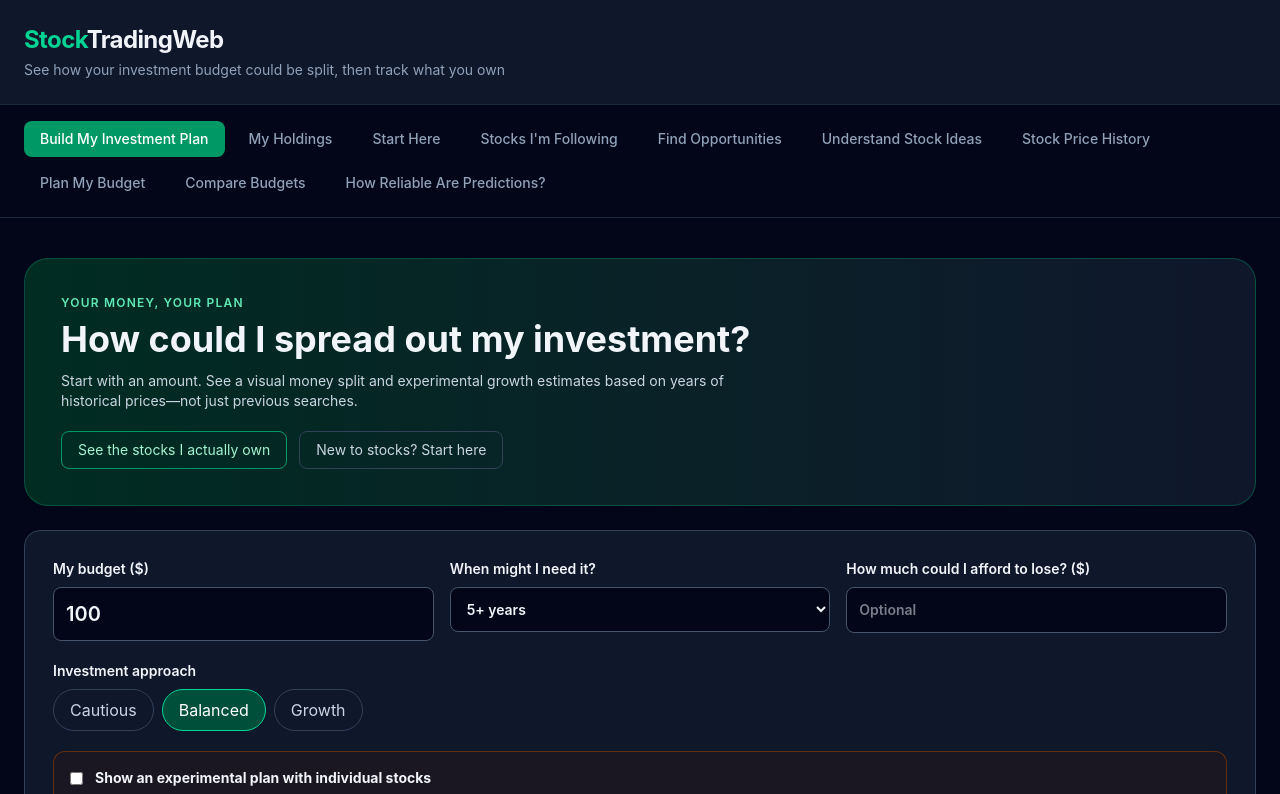
it: Application shell › honestly states the holdings tracker does not place real trades
The width and height of the screenshot is (1280, 794).
Click the link "My Holdings". click: (290, 138)
box: top-left (248, 130), bottom-right (332, 147)
(page scrolled)
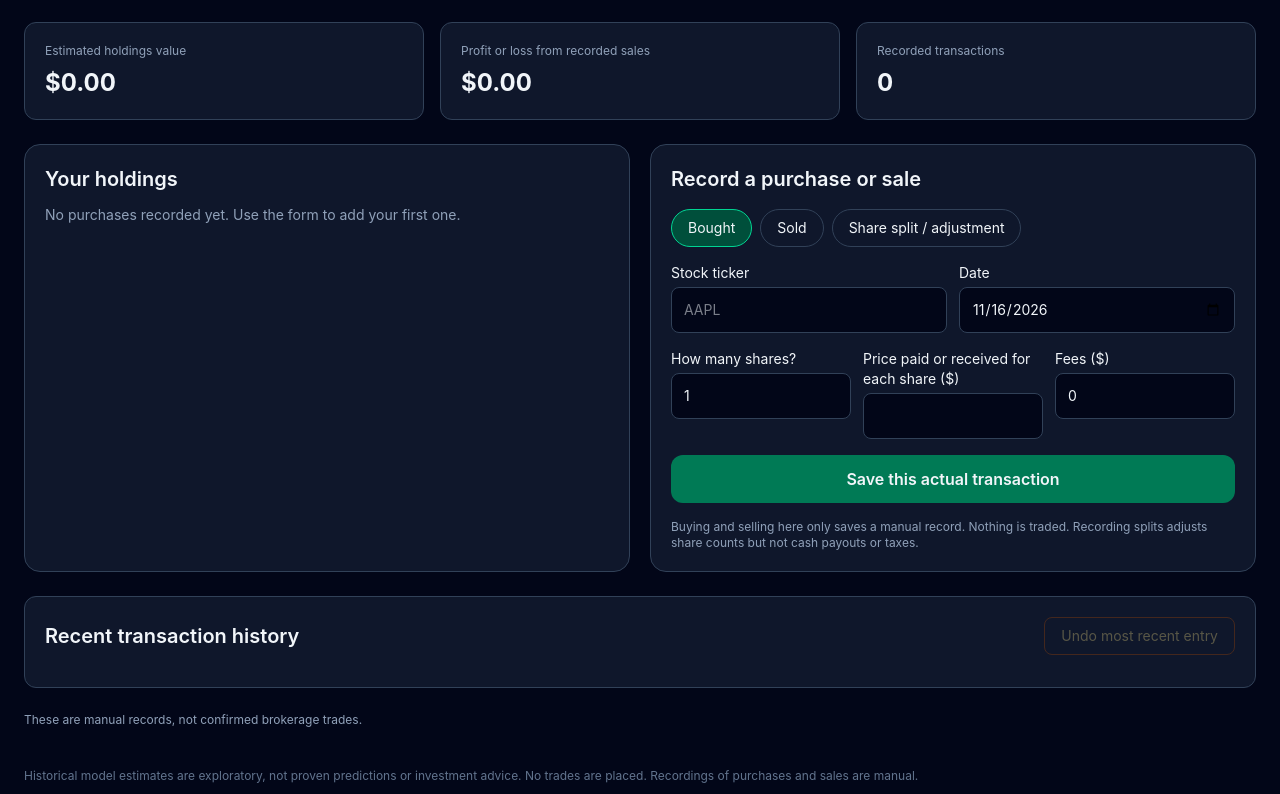
Expected: the text "Nothing is traded" is shown, top-left (671, 519), bottom-right (1207, 550)
